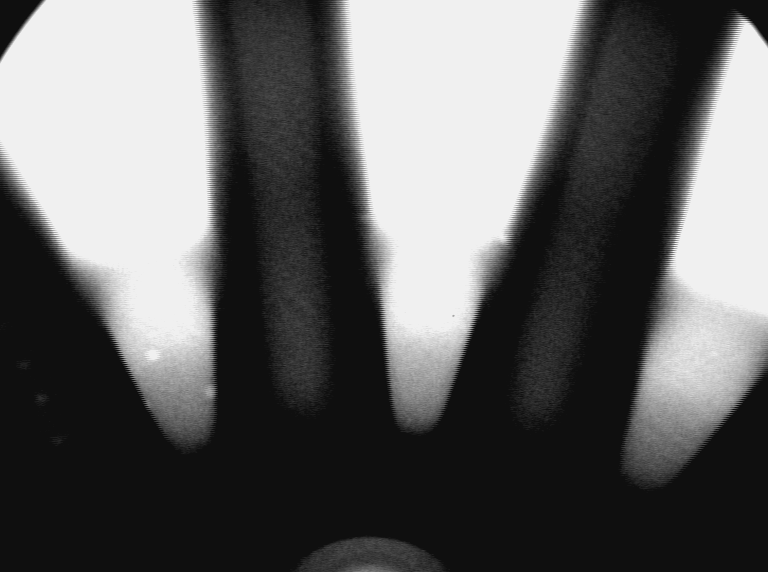defect: (52, 437, 64, 449)
